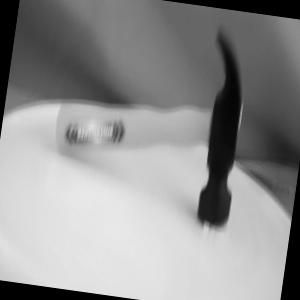martelo: (42, 6, 257, 235)
